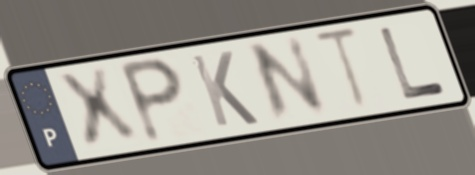K: (186, 48, 263, 130)
L: (375, 23, 450, 102)
N: (244, 32, 332, 128)
P: (114, 54, 188, 148)
T: (309, 24, 374, 115)
X: (50, 63, 146, 155)
